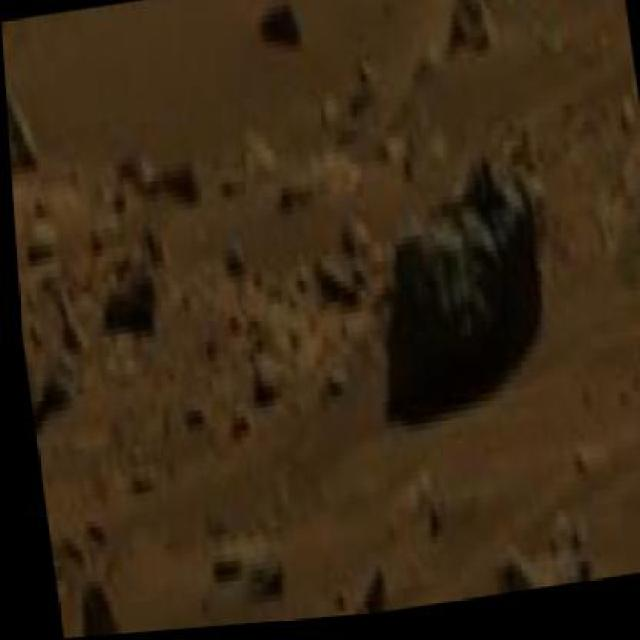rock: (346, 137, 557, 426), (600, 157, 638, 478), (459, 542, 587, 598), (1, 18, 44, 177), (94, 270, 163, 345), (64, 564, 122, 636), (255, 0, 301, 55)
